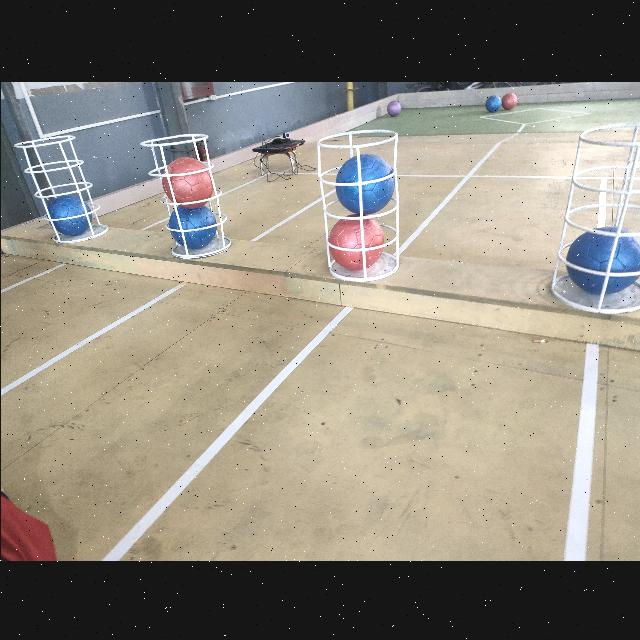B: (564, 224, 640, 292), (334, 152, 396, 212), (167, 201, 215, 249), (48, 192, 90, 234), (484, 95, 500, 112)
R: (326, 212, 384, 270), (162, 156, 212, 208), (501, 90, 517, 108)
